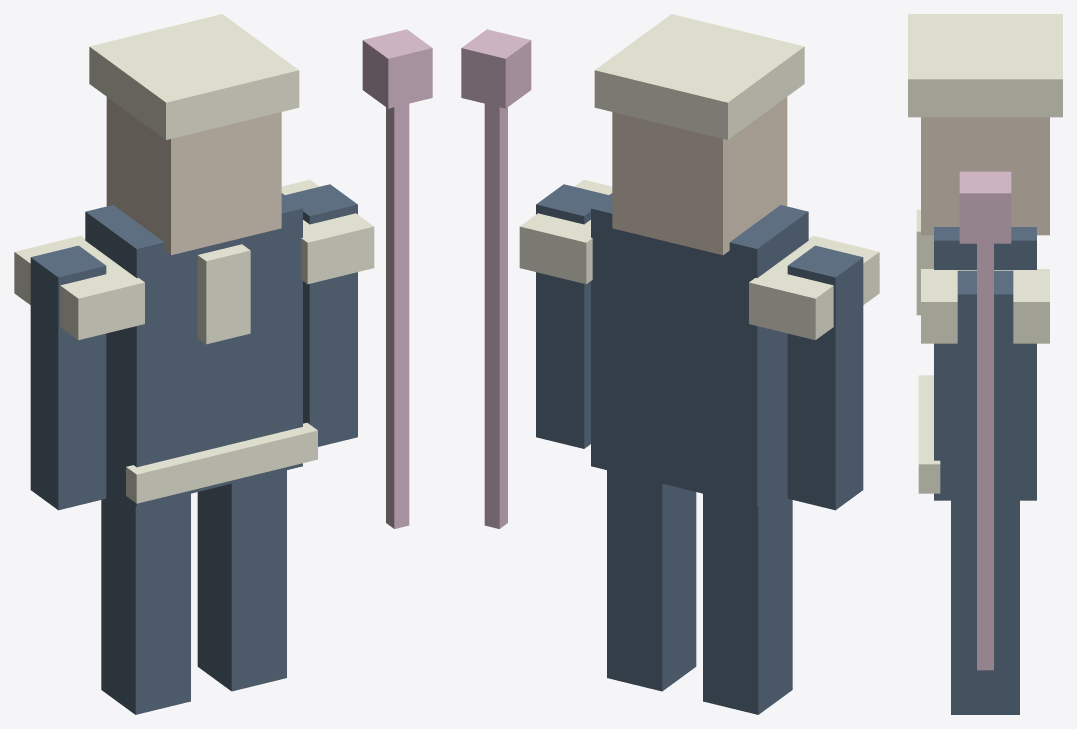
File: 05_asha_nullborne_fixer_under_defense.glb
The picture shows the model from 3 angles, left to right: view 1: azimuth 30°, elevation 25°; view 2: azimuth 150°, elevation 25°; view 3: azimuth 270°, elevation 25°; orthographic projection.
Visible parts, largest first — view 1: Asha Nullborne, Fixer under Defense; view 2: Asha Nullborne, Fixer under Defense; view 3: Asha Nullborne, Fixer under Defense.
Part boxes in pixels (x1=…): Asha Nullborne, Fixer under Defense: x1=14, y1=14, x2=432, y2=714; Asha Nullborne, Fixer under Defense: x1=461, y1=14, x2=879, y2=714; Asha Nullborne, Fixer under Defense: x1=908, y1=14, x2=1062, y2=714.
Bounding box in the file's own units: 1.01 × 1.61 × 0.3592.
